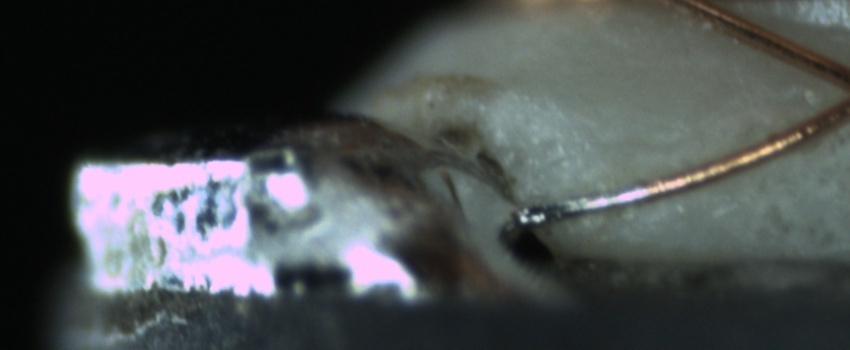TS: (521, 180, 644, 227)
